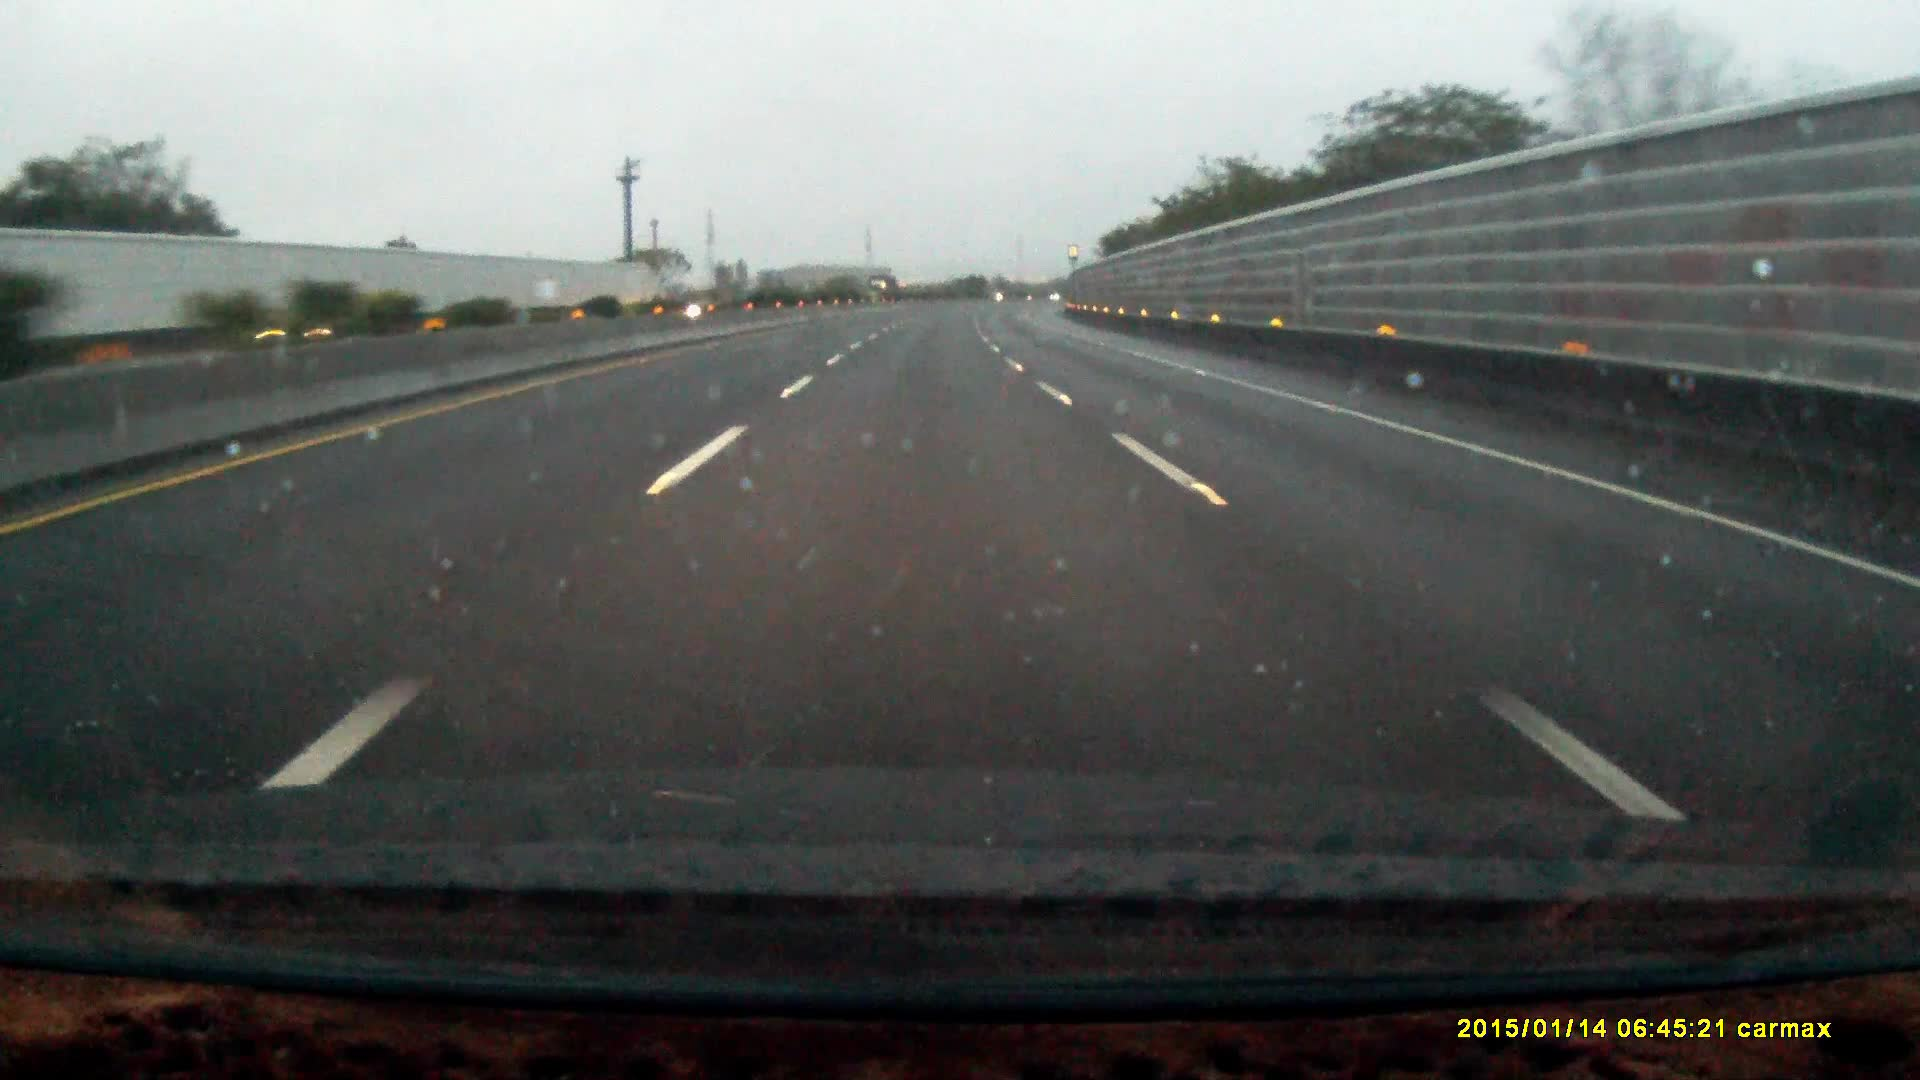vehicle: (870, 276, 899, 303)
